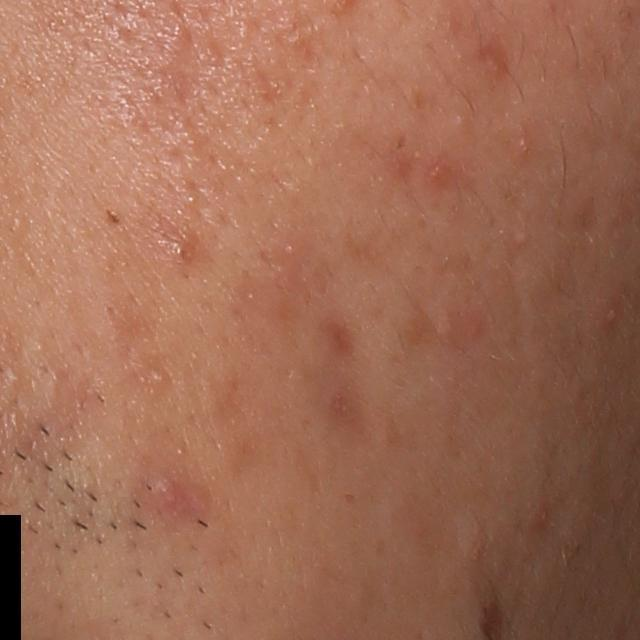comedo: (148, 366, 173, 386), (453, 111, 472, 130), (511, 229, 531, 246)
papule: (152, 473, 197, 520), (425, 162, 452, 189)
